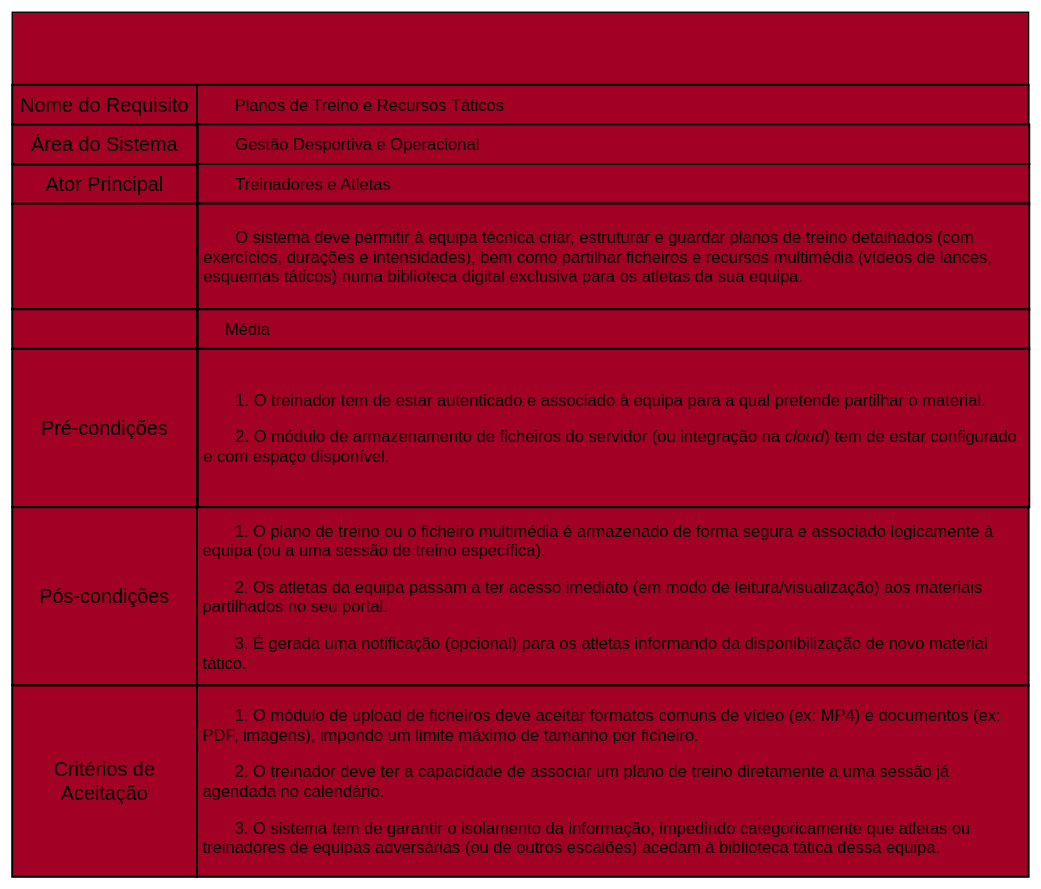
Image size: 1041x889. Some labels were removed from this diagram. Each missing label, with the centre of its shape:
"Descrição" goes at [104,256].
"Prioridade" goes at [104,328].
"RF-08" goes at [520,48].
